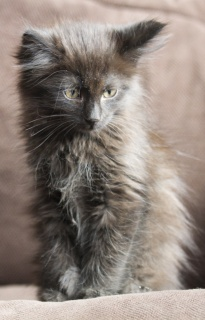Cat: (5, 18, 196, 298)
